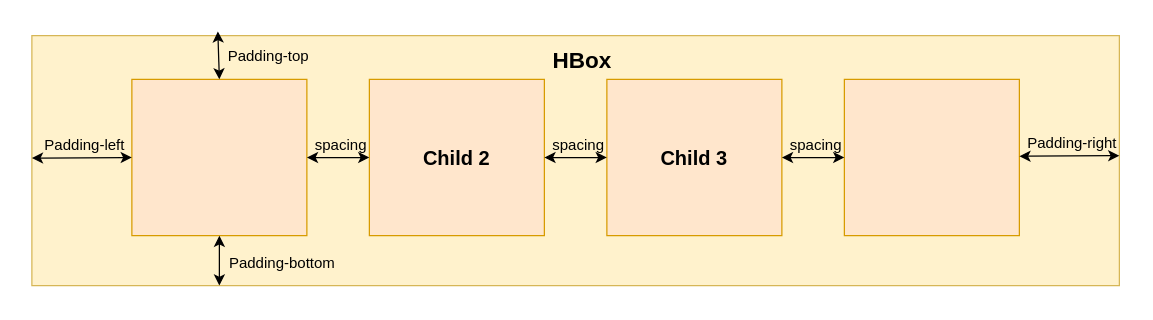
Image size: 1153x320. Some labels were removed from this diagram. The centre of each missing label's shape, as x and y in pixels:
"Child 1" goes at (x=219, y=157).
"Child 4" goes at (x=931, y=157).
